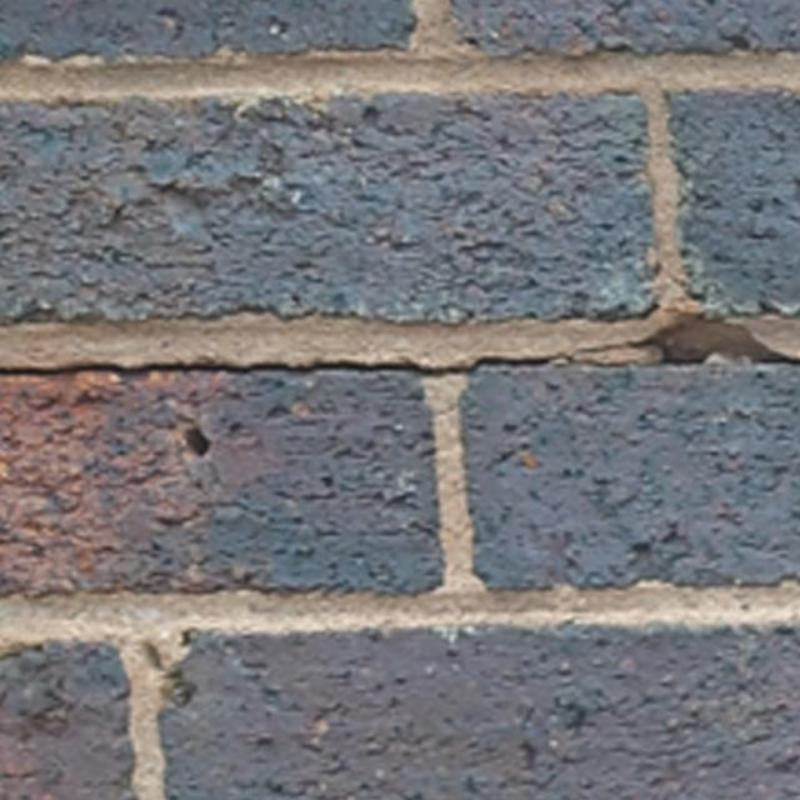pothole: (0, 354, 557, 377)
